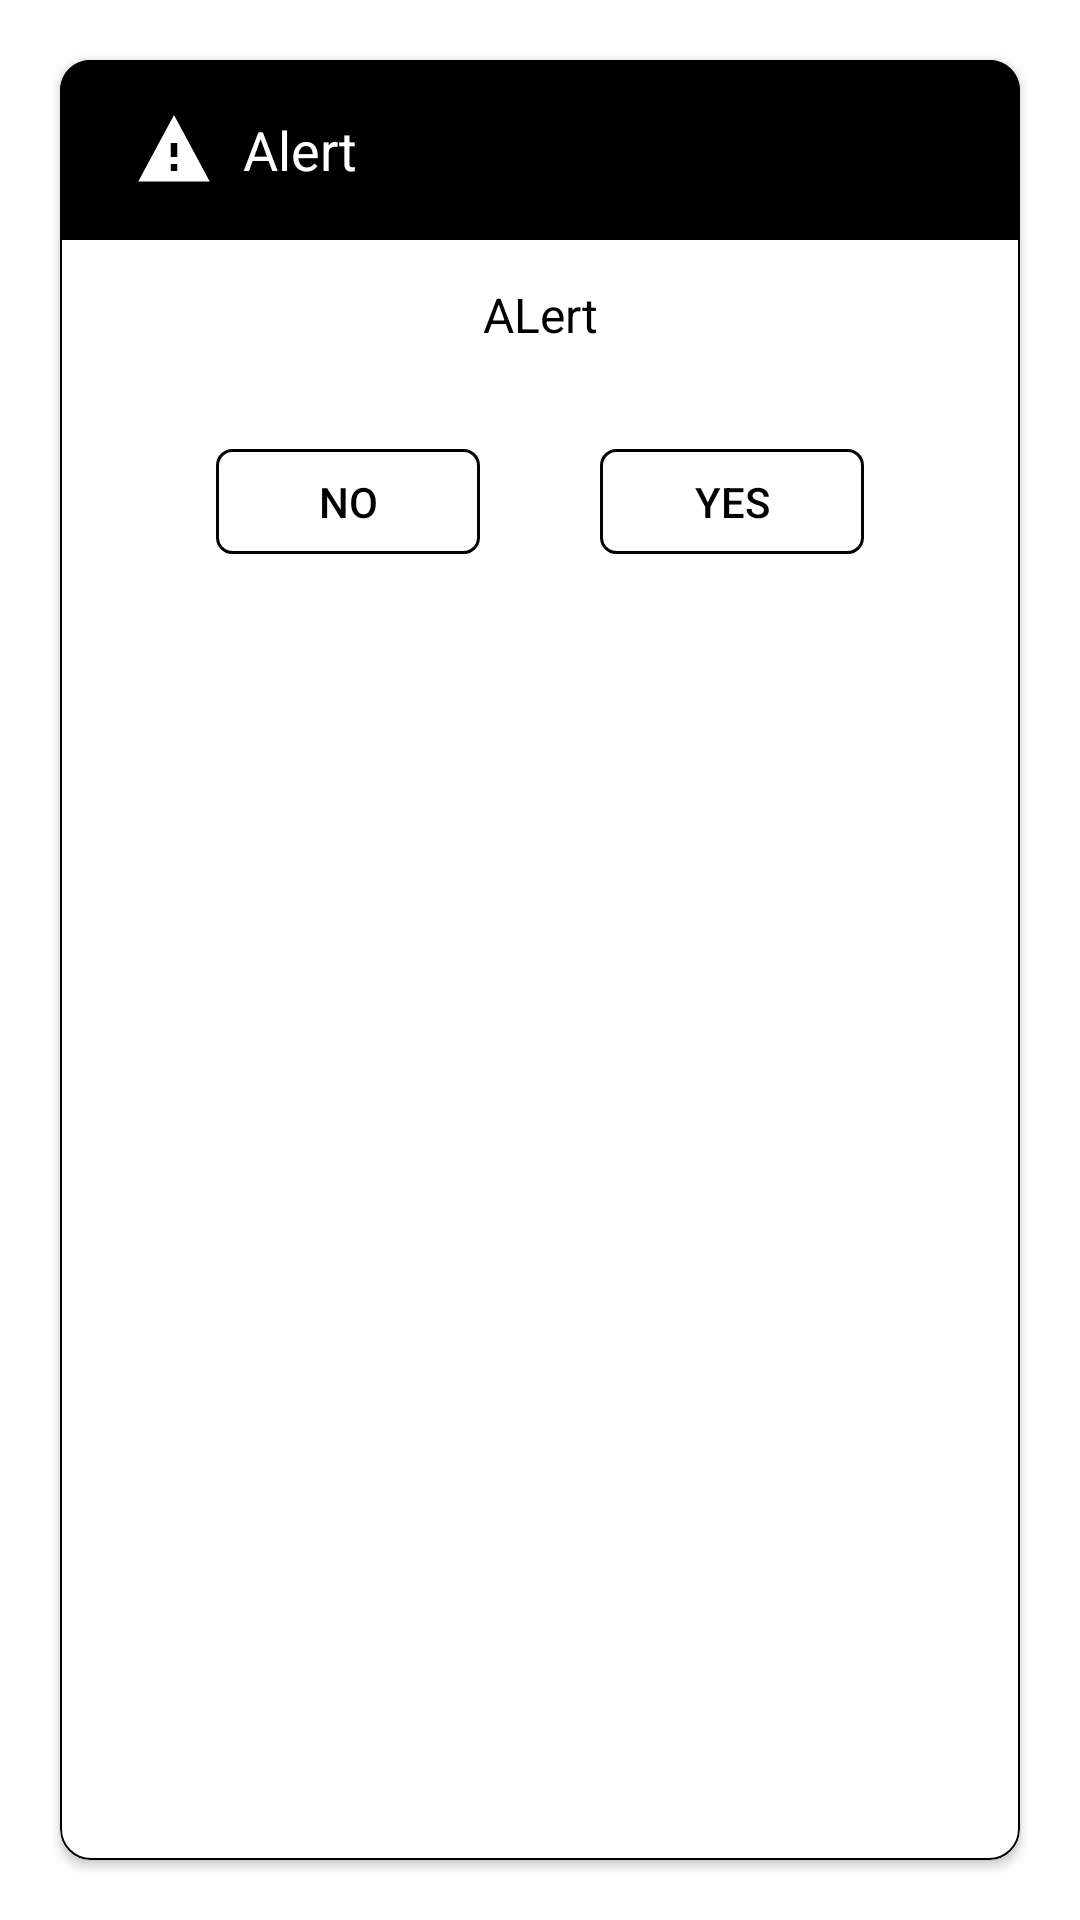

Icons on this 1080 x 1920 Android screen, each with its box as {"left": x1, "top": y1, "right": x2, "bottom": y2}:
warning: {"left": 138, "top": 115, "right": 210, "bottom": 182}
